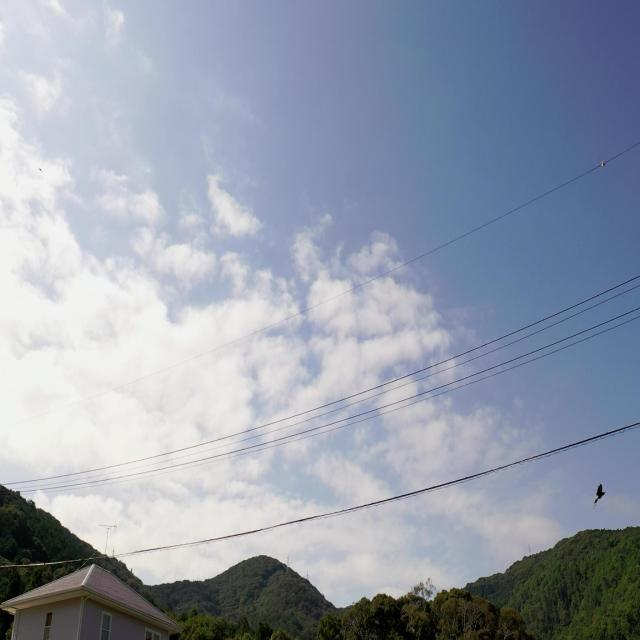Birds: (586, 478, 610, 513)
